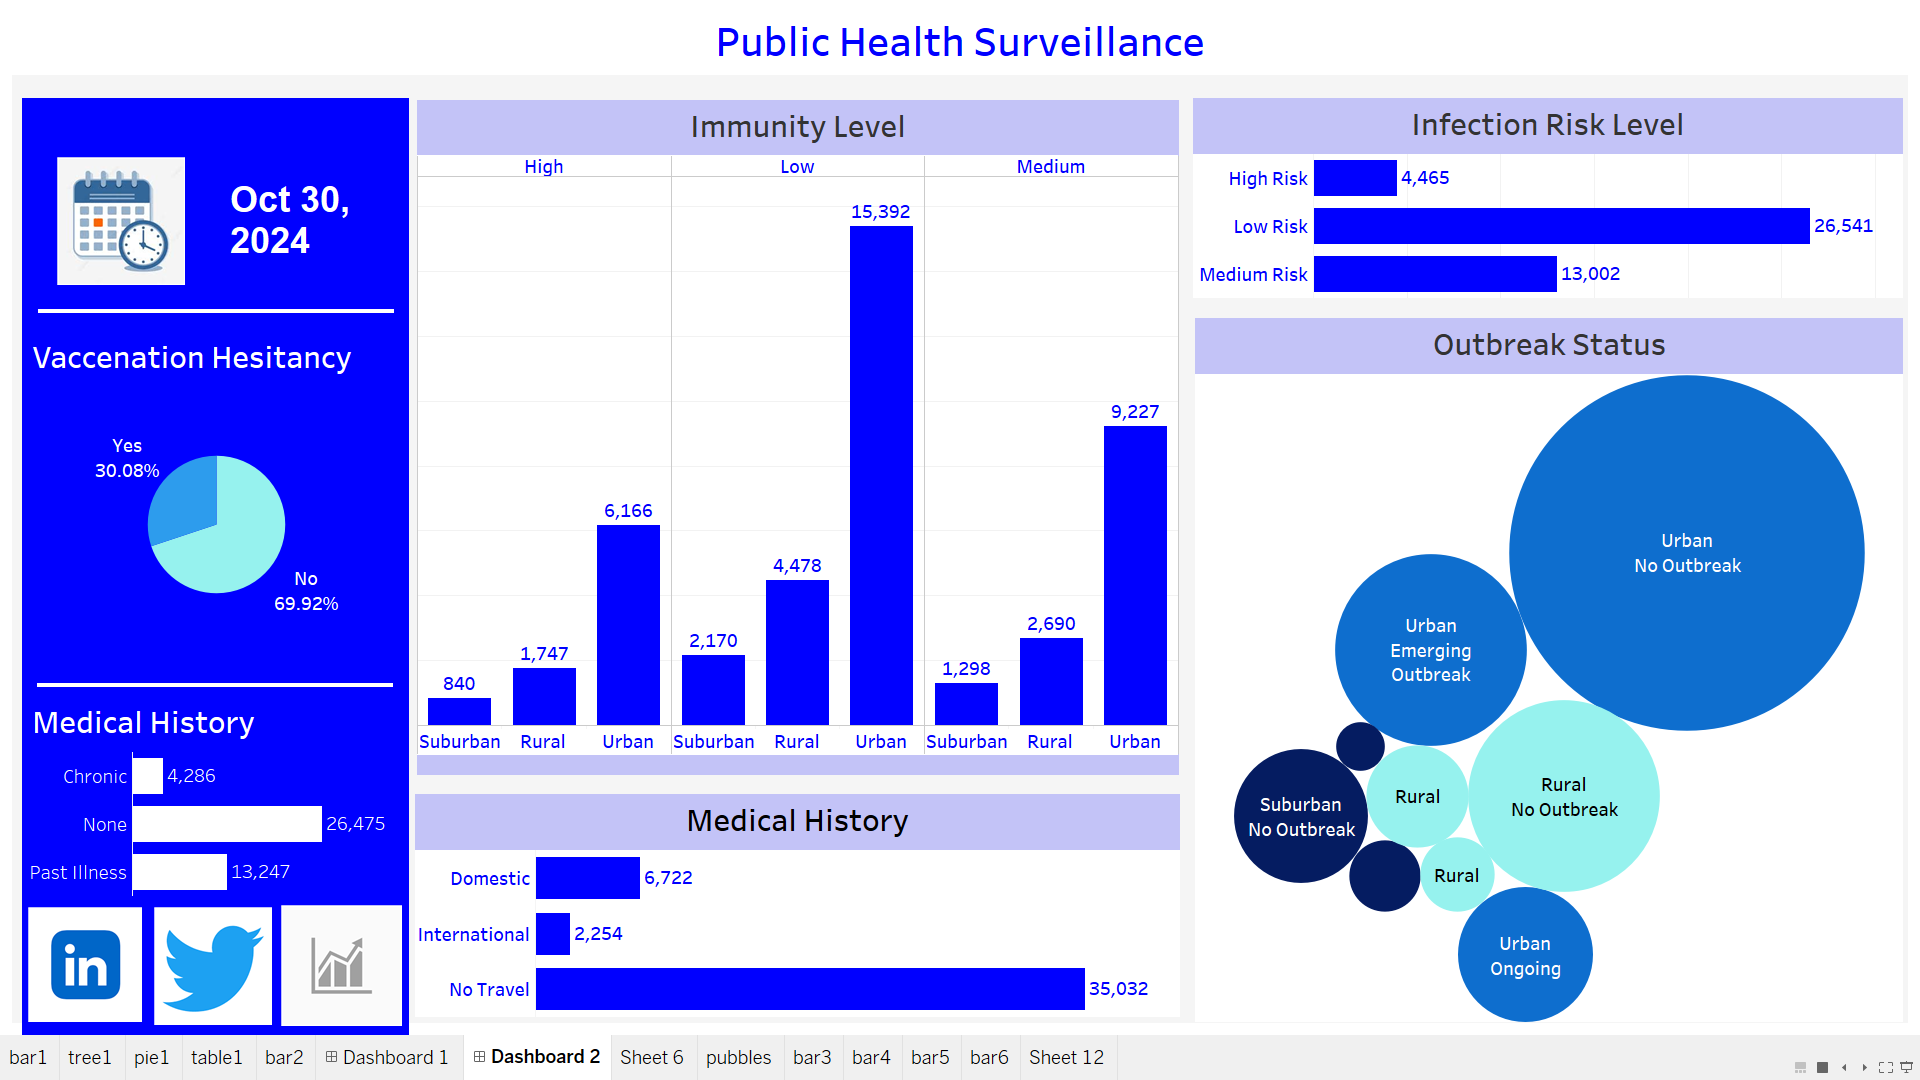

The dashboard page shown, as its layout file describes it:
{"tool":"tableau","page":{"name":"Dashboard 2","canvas":[1000,1000],"units":"permille","ordinal":1},"visuals":[{"type":"title","box":[5,9.9,990,78.2]},{"type":"blank","box":[5,88.1,990,902]},{"type":"blank","box":[11.2,94.3,202,909.4]},{"type":"worksheet","title":"bar3","mark":"Automatic","rows":["Infection_Risk_Level"],"cols":["Patient_ID"],"box":[621.6,94.3,369.7,193.6]},{"type":"worksheet","title":"bar6","mark":"Automatic","rows":["Patient_ID"],"cols":["Immunity_Level","Location"],"box":[217,96.8,397.1,652.6]},{"type":"text","box":[117.8,135.2,87.9,155.1]},{"type":"image","param":"C:/Users/DELL/AppData/Local/Temp/TableauTemp/0xlt57i1e459ia1gny1z719l1i6u/Sheets","box":[29.9,151.4,68,124.1]},{"type":"blank","box":[19.9,299,185.2,3.7]},{"type":"worksheet","title":"pubbles","mark":"Circle","box":[622.2,307.7,369.1,679.9]},{"type":"worksheet","title":"pie2","mark":"Pie","box":[14.3,320.1,196.4,320.1]},{"type":"blank","box":[19.3,660.1,185.2,3.7]},{"type":"worksheet","title":"bar4","mark":"Automatic","rows":["Medical_History"],"cols":["Patient_ID"],"box":[14.3,672.5,193.9,193.6]},{"type":"worksheet","title":"bar5","mark":"Automatic","rows":["Travel_History"],"cols":["Patient_ID"],"box":[216.3,766.8,398.4,215.9]},{"type":"dashboard-object","box":[146.5,873.5,63,117.9]},{"type":"image","param":"C:/Users/DELL/AppData/Local/Temp/TableauTemp/0xlt57i1e459ia1gny1z719l1i6u/Sheets","box":[14.3,875.9,59.9,117.9]},{"type":"image","param":"C:/Users/DELL/AppData/Local/Temp/TableauTemp/0xlt57i1e459ia1gny1z719l1i6u/Sheets","box":[80.4,875.9,62.3,114.1]}]}

Visuals, with their boxes on the dashboard's canvas, which has no fixed pixel size, in thousandths of its width and height (x1, y1, x2, y2). These are canvas units, not pixel positions in the 1920x1080 screenshot, which may show the page scaled, cropped or inside an application window:
title: box(5, 10, 995, 88)
blank: box(5, 88, 995, 990)
blank: box(11, 94, 213, 1004)
"bar3" worksheet: box(622, 94, 991, 288)
"bar6" worksheet: box(217, 97, 614, 749)
text: box(118, 135, 206, 290)
image: box(30, 151, 98, 276)
blank: box(20, 299, 205, 303)
"pubbles" worksheet (Circle marks): box(622, 308, 991, 988)
"pie2" worksheet (Pie marks): box(14, 320, 211, 640)
blank: box(19, 660, 204, 664)
"bar4" worksheet: box(14, 672, 208, 866)
"bar5" worksheet: box(216, 767, 615, 983)
dashboard-object: box(146, 874, 210, 991)
image: box(14, 876, 74, 994)
image: box(80, 876, 143, 990)
